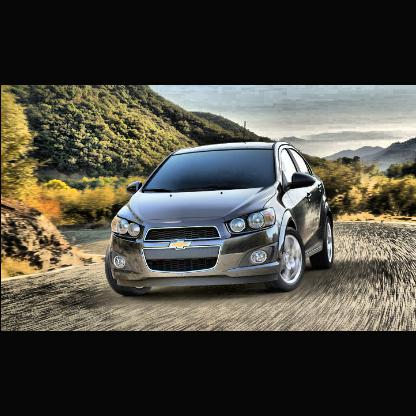Chevrolet Sonic Sedan 2012: (106, 143, 335, 299)
